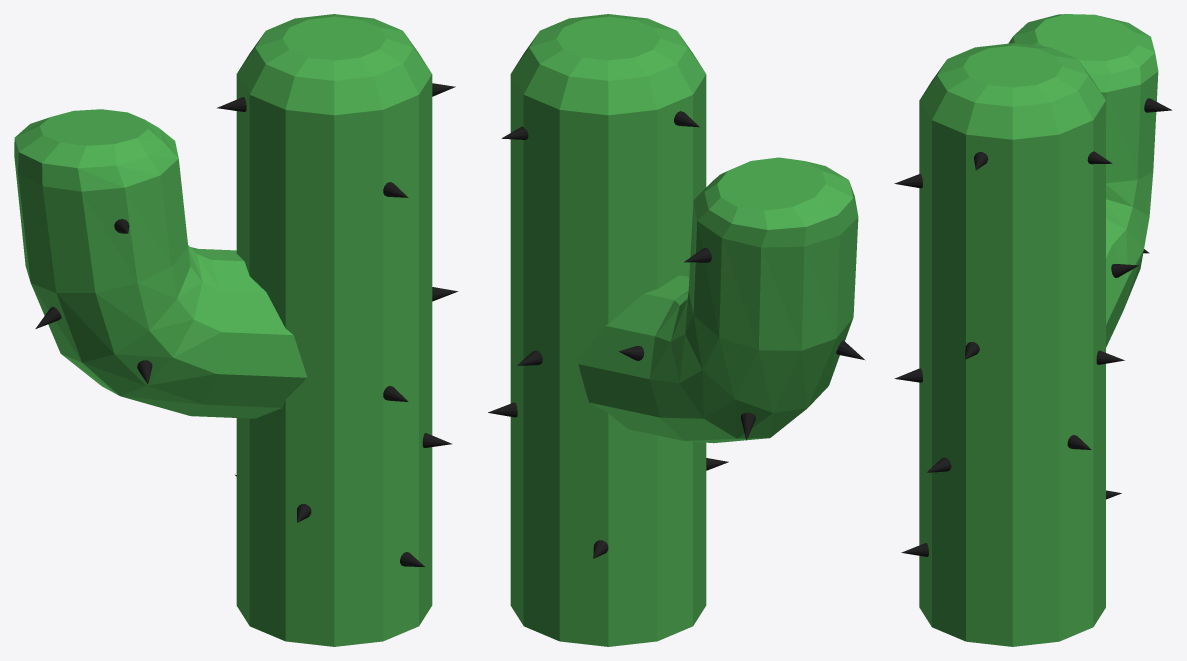
3 renders of one model, left to right at view 1: azimuth 30°, elevation 25°; view 2: azimuth 150°, elevation 25°; view 3: azimuth 270°, elevation 25°, orthographic. The views are drawn at different scales.
Parts seen in each view (by area): view 1: mesh_1119597062, mesh_311521684; view 2: mesh_1119597062, mesh_311521684; view 3: mesh_1119597062, mesh_311521684.
Boxes of the visible parts, x1,y1,x2,y2 form: mesh_1119597062: (236, 14, 432, 646); mesh_311521684: (14, 109, 307, 418); mesh_1119597062: (510, 14, 706, 646); mesh_311521684: (578, 157, 858, 443); mesh_1119597062: (919, 43, 1105, 646); mesh_311521684: (1008, 14, 1158, 347).
Size of the model in its own units: 44.95 by 64 by 29.89.
